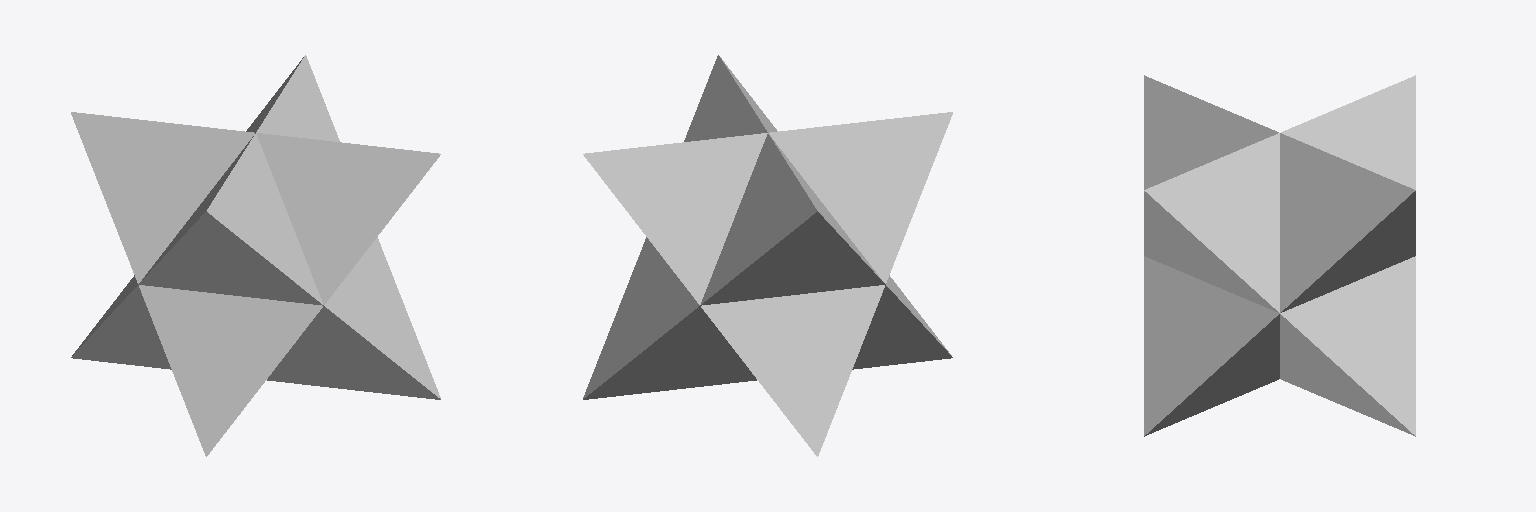
Rendered from stella.obj.
3 views of the same model, side by side, from view 1: azimuth 30°, elevation 25°; view 2: azimuth 150°, elevation 25°; view 3: azimuth 270°, elevation 25° (orthographic).
Visible parts, largest first — view 1: stella; view 2: stella; view 3: stella.
Boxes of the visible parts, x1=… form: stella: x1=71, y1=55, x2=440, y2=456; stella: x1=583, y1=55, x2=952, y2=456; stella: x1=1144, y1=75, x2=1415, y2=436.
Bounding box in the file's own units: 2 × 2 × 2.